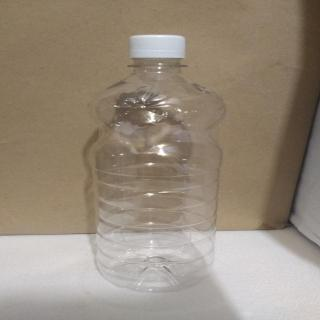Anorganik: (76, 29, 238, 296)
